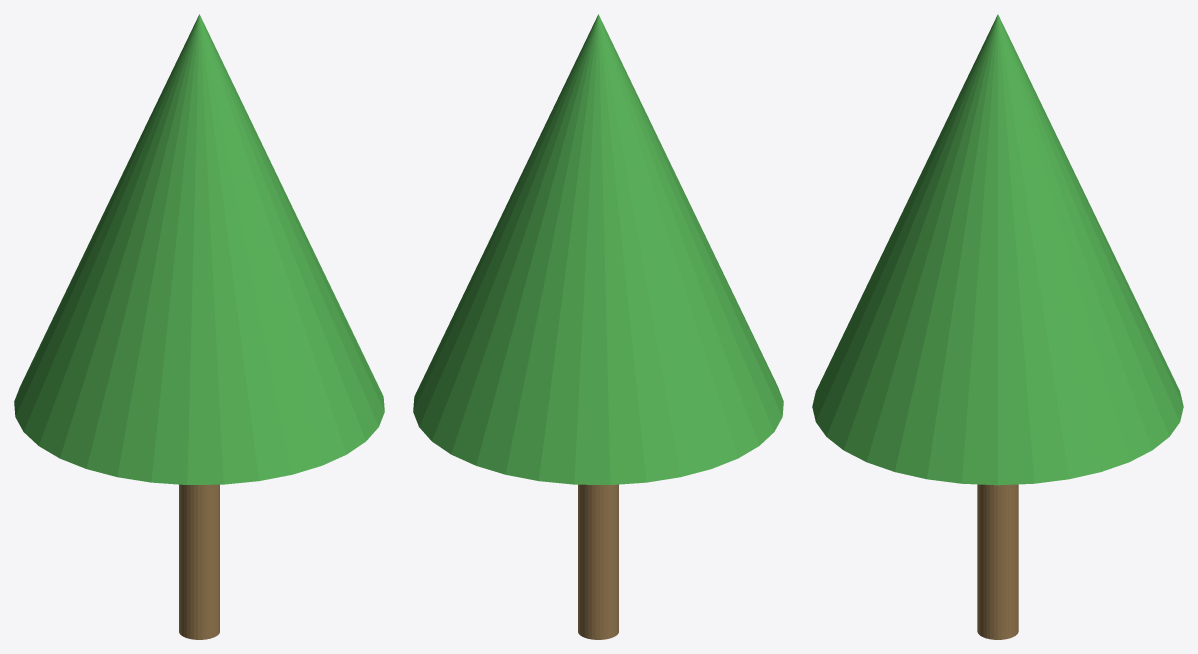
File: tree_cedar.glb
The picture shows the model from 3 angles, left to right: view 1: azimuth 30°, elevation 25°; view 2: azimuth 150°, elevation 25°; view 3: azimuth 270°, elevation 25°; orthographic projection.
Parts seen in each view (by area): view 1: tree_cedar; view 2: tree_cedar; view 3: tree_cedar.
Boxes of the visible parts, x1=… form: tree_cedar: x1=14, y1=14, x2=384, y2=639; tree_cedar: x1=413, y1=14, x2=783, y2=639; tree_cedar: x1=812, y1=14, x2=1183, y2=639.
Size of the model in its own units: 1.8 by 3.3 by 1.8.
